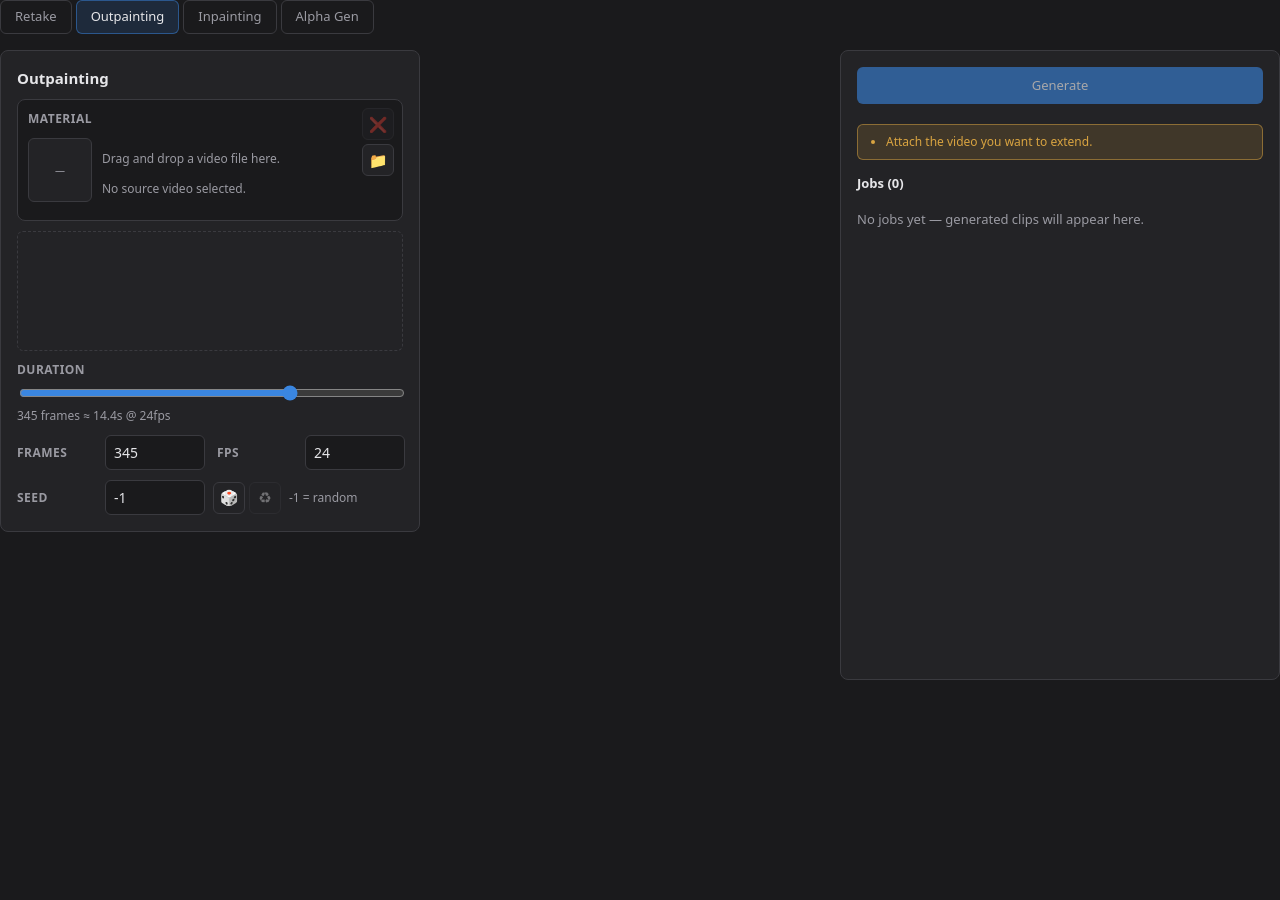
Test: OutpaintingPanel › spells out the 4096 ceiling in the reason note when the pads push past it
Step 1. Click the button named "choose source video" → (378, 160), box 362,144 -> 394,176
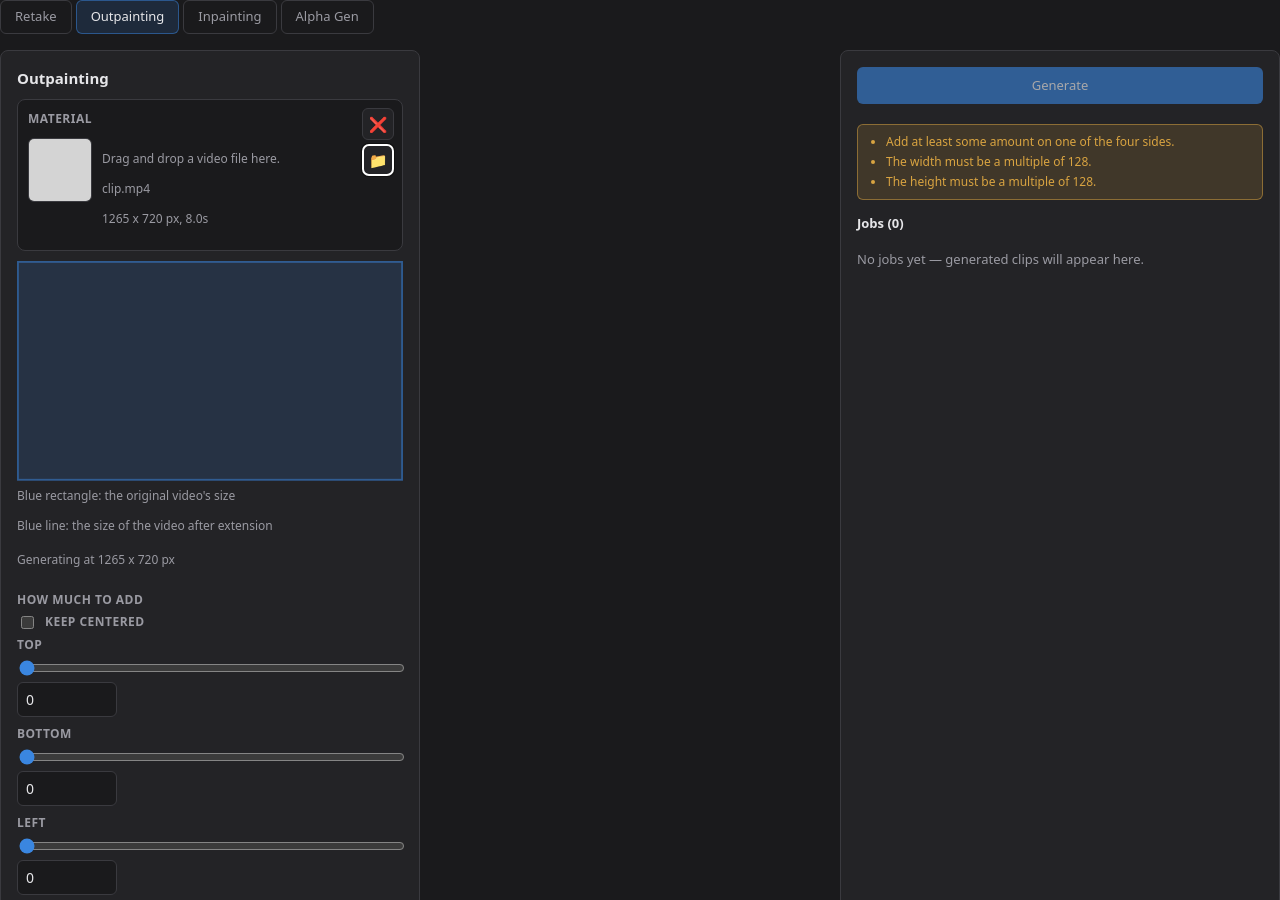
Expected: the slider labelled "Left" is shown, 19,838 -> 405,854
Step 2. Replace the text in the number field named "left" with "3000" → (67, 877), box 17,860 -> 117,895
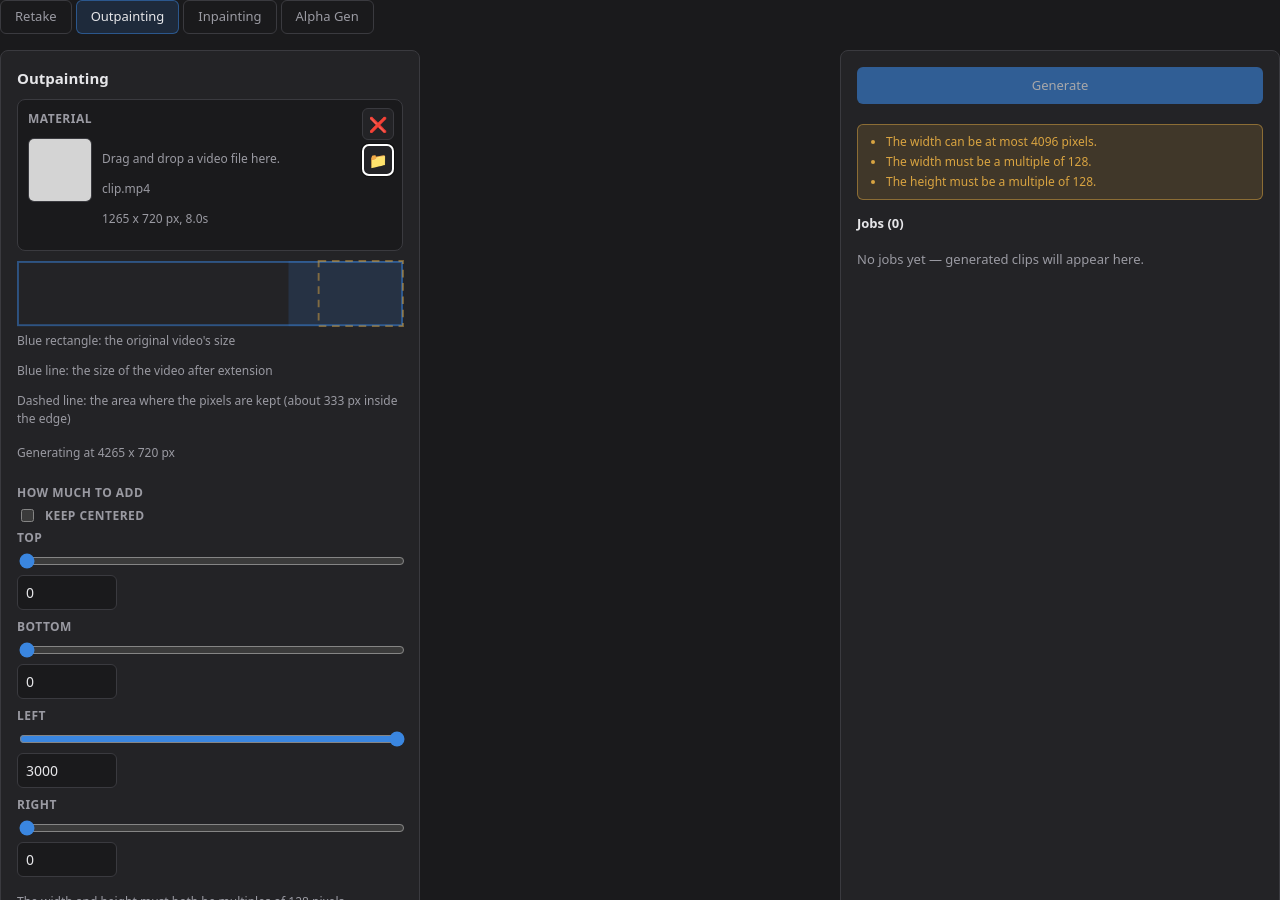
Expected: the button "Generate" is disabled, 857,66 -> 1263,104
Expected: the list item "The width can be at most 4096 pixels." is shown, 886,133 -> 1097,150
Step 3. Replace the text in the number field named "left" with "15" → (67, 771), box 17,753 -> 117,788
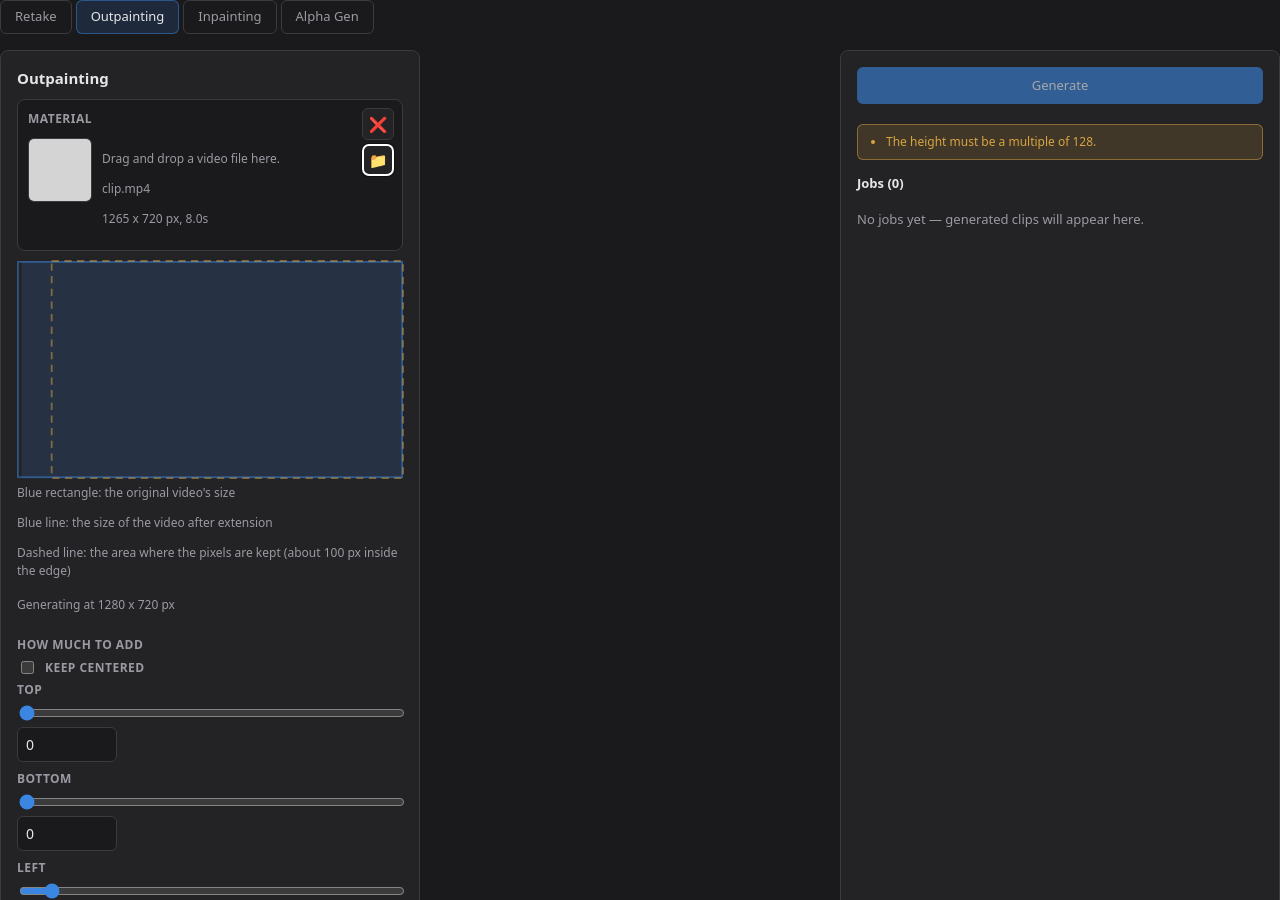
Expected: the list item "The width can be at most 4096 pixels." is gone
